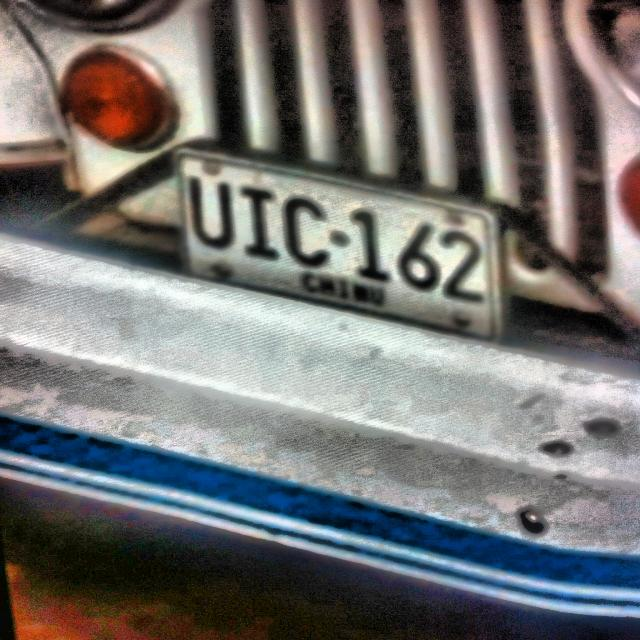plate: (181, 152, 496, 339)
